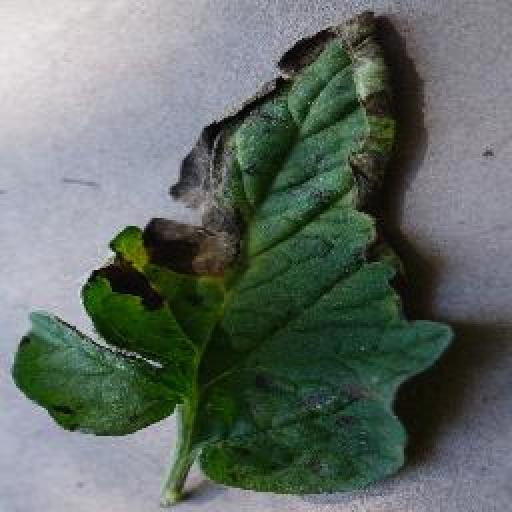disease_tomato: (12, 6, 454, 496)
